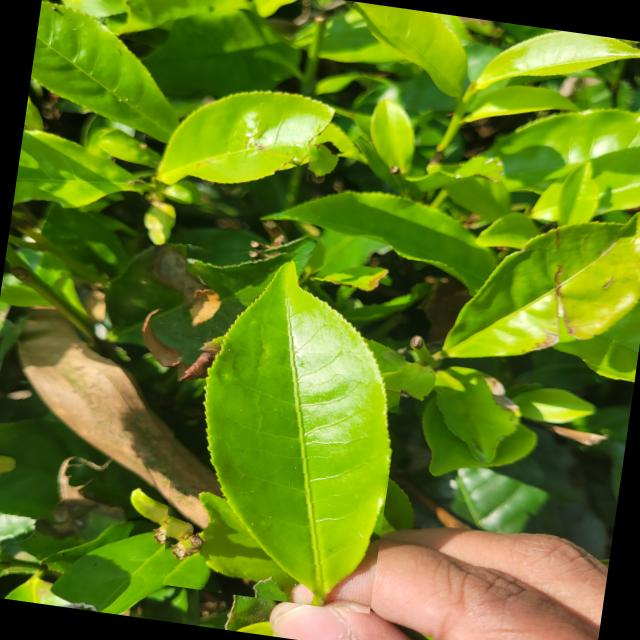Catagory A(1-2 days): (140, 232, 419, 614)
